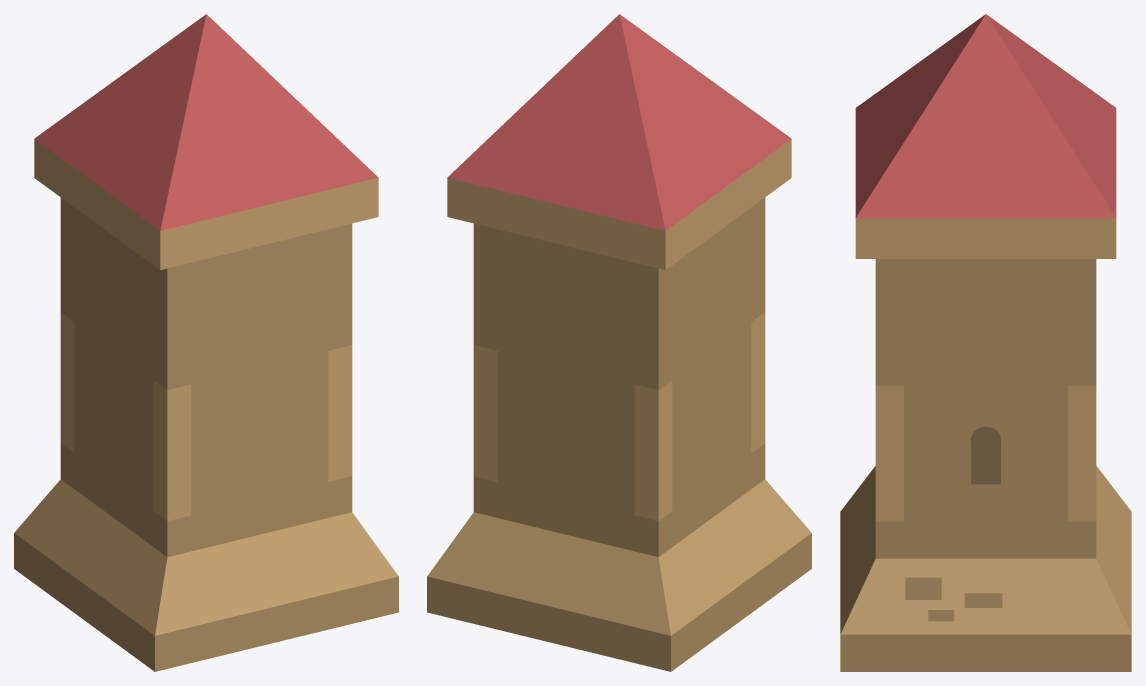
Rendered from FearTower.dae.
3 renders of one model, left to right at view 1: azimuth 30°, elevation 25°; view 2: azimuth 150°, elevation 25°; view 3: azimuth 270°, elevation 25°, orthographic. The views are drawn at different scales.
Visible parts, largest first — view 1: Group101 (×3), Group18, Group80 (×4); view 2: Group101 (×3), Group18, Group80 (×4); view 3: Group101 (×3), Group18 (×3), Group80 (×4).
Part boxes in pixels (box(x1,y1,x2,y2)): Group101 (×3): box(34, 14, 378, 389); Group18: box(14, 443, 398, 671); Group80 (×4): box(60, 312, 352, 520); Group101 (×3): box(447, 14, 791, 389); Group18: box(427, 443, 811, 671); Group80 (×4): box(473, 312, 765, 520); Group101 (×3): box(855, 14, 1116, 385); Group18 (×3): box(840, 466, 1131, 671); Group80 (×4): box(875, 386, 1096, 521).
Size of the model in its own units: 30.66 by 30.66 by 69.29.
